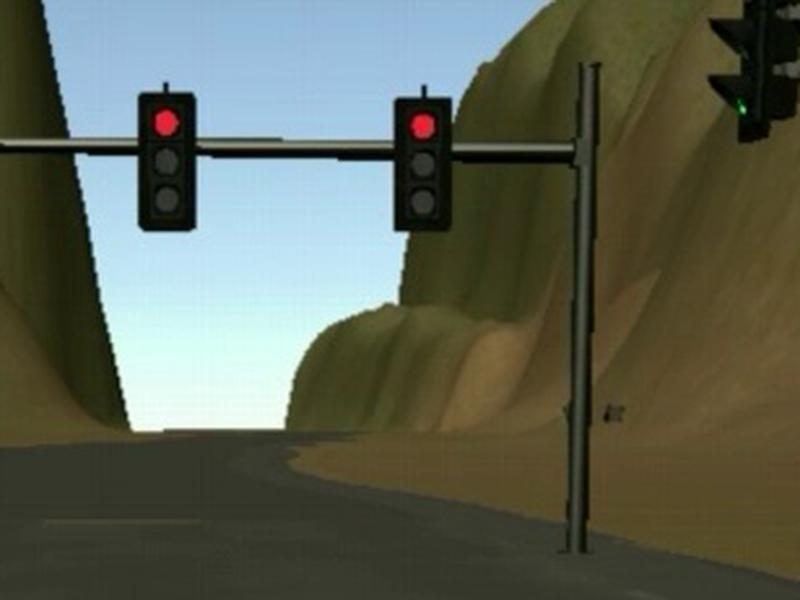Red: (138, 93, 197, 232), (395, 96, 453, 231)
